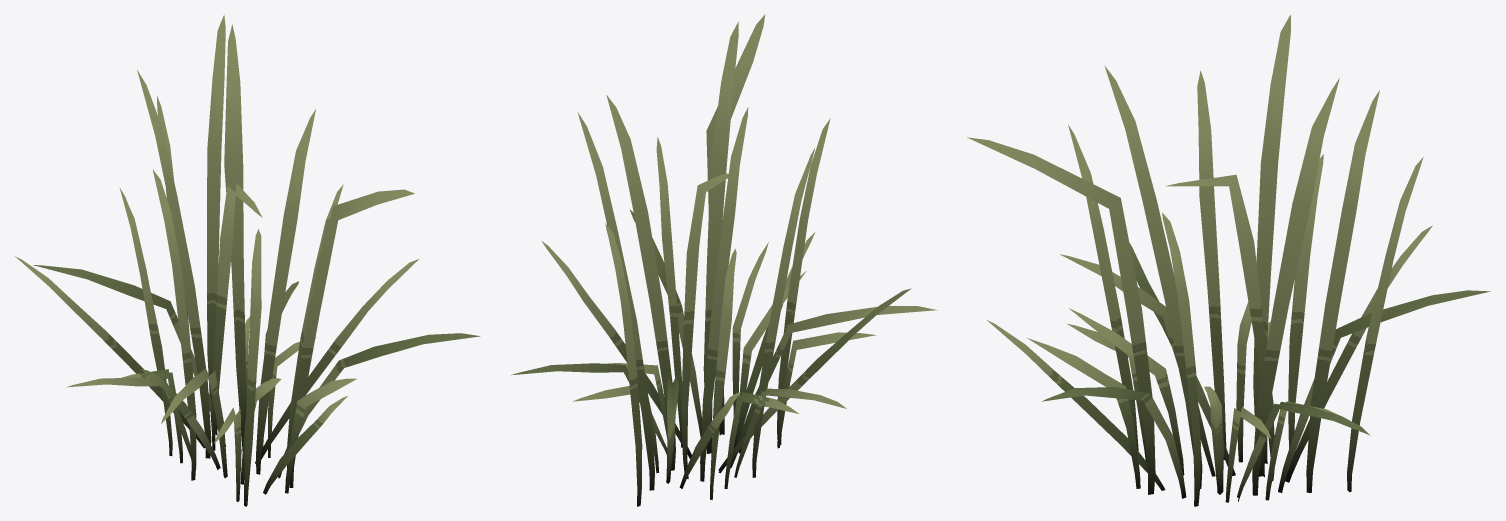
The model's file is reeds-broken-stems.glb.
The picture shows the model from 3 angles, left to right: view 1: azimuth 30°, elevation 25°; view 2: azimuth 150°, elevation 25°; view 3: azimuth 270°, elevation 25°; orthographic projection. The views are drawn at different scales.
Parts seen in each view (by area): view 1: reeds-broken-stems runtime mesh; view 2: reeds-broken-stems runtime mesh; view 3: reeds-broken-stems runtime mesh.
Boxes of the visible parts, <box> form: reeds-broken-stems runtime mesh: <box>15,14,480,506</box>; reeds-broken-stems runtime mesh: <box>511,14,937,506</box>; reeds-broken-stems runtime mesh: <box>967,15,1490,506</box>.
Bounding box in the file's own units: 0.7554 × 0.88 × 0.9533.
Materials: 1 (1 with a texture image).
